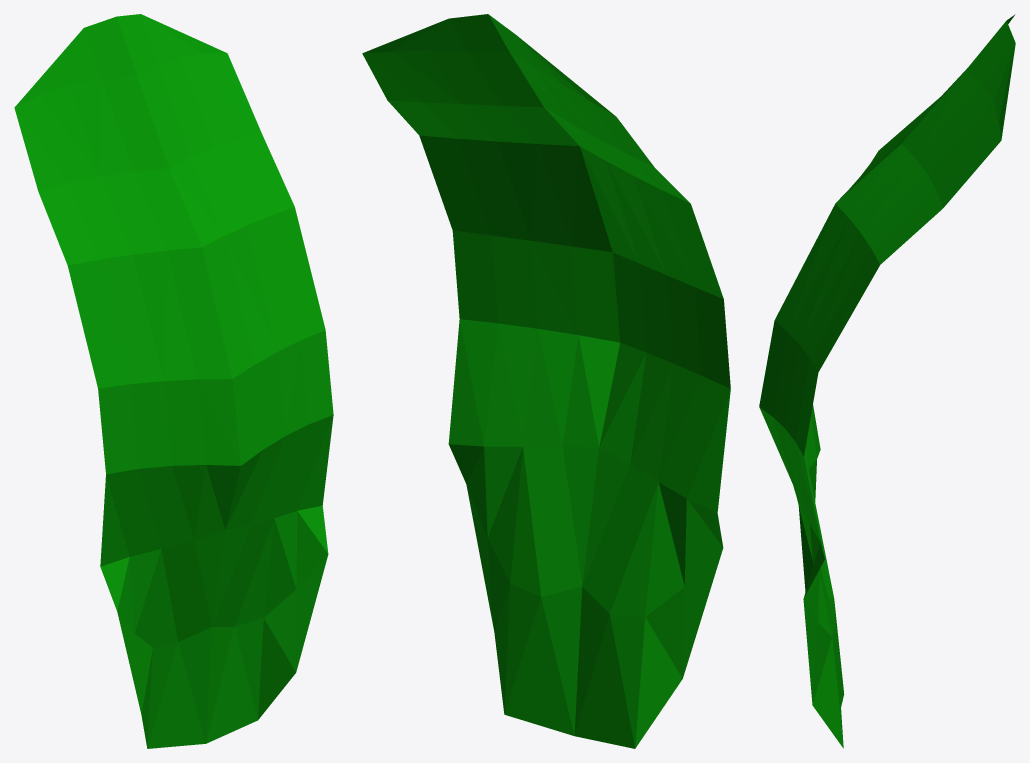
File: Vegetation_Modular_New_Palm_Leaf_01.FBX
The picture shows the model from 3 angles, left to right: view 1: azimuth 30°, elevation 25°; view 2: azimuth 150°, elevation 25°; view 3: azimuth 270°, elevation 25°; orthographic projection. The views are drawn at different scales.
Visible parts, largest first — view 1: Vegetation_Modular_New_Palm_Leaf_01; view 2: Vegetation_Modular_New_Palm_Leaf_01; view 3: Vegetation_Modular_New_Palm_Leaf_01.
Part boxes in pixels (x1,y1,x2,y2): Vegetation_Modular_New_Palm_Leaf_01: (14, 14, 333, 748); Vegetation_Modular_New_Palm_Leaf_01: (362, 14, 730, 748); Vegetation_Modular_New_Palm_Leaf_01: (759, 14, 1015, 748).
Bounding box in the file's own units: 394 × 1095 × 362.
